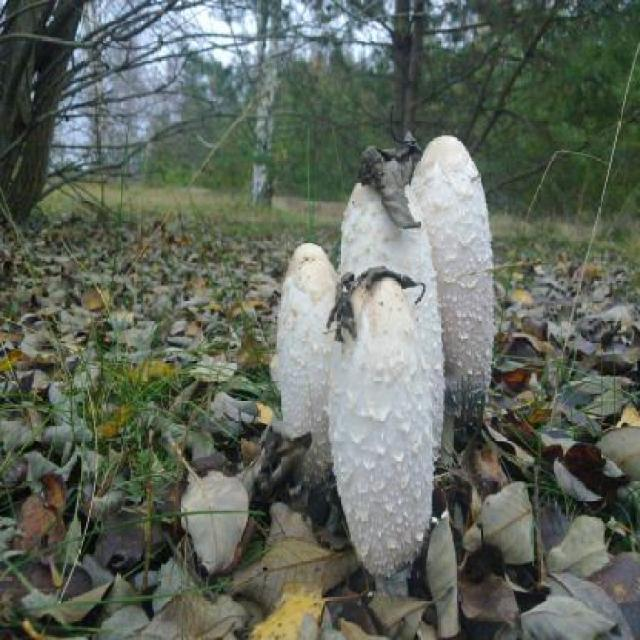Mushroom: (329, 276, 434, 594), (338, 178, 448, 466), (412, 133, 494, 441), (278, 244, 344, 488)
